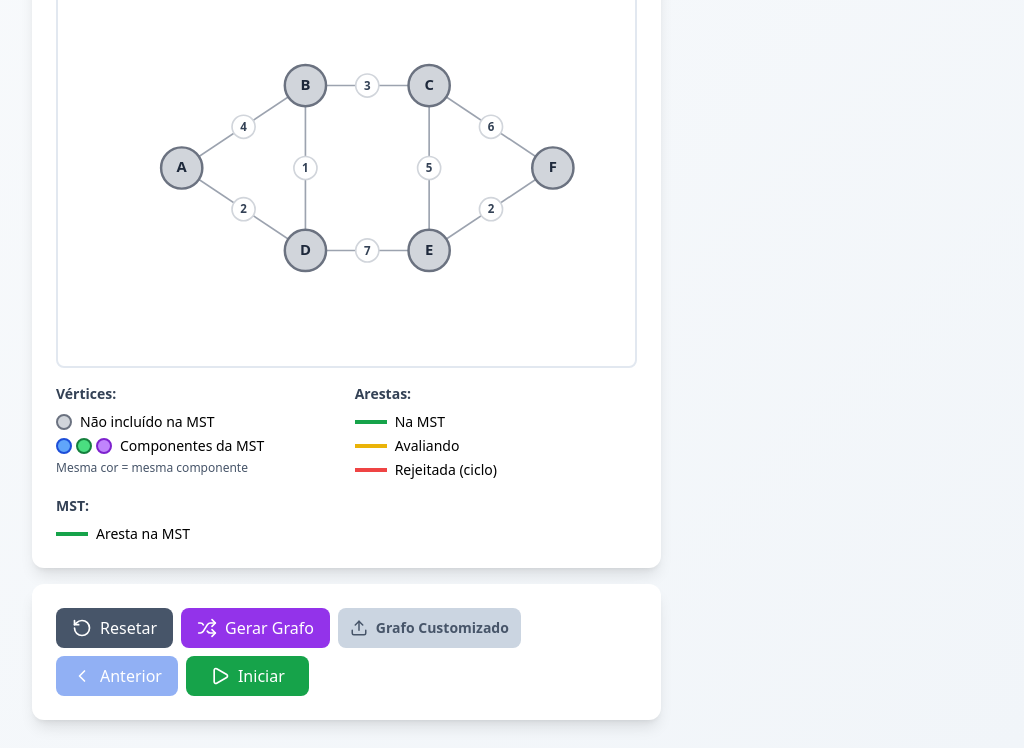
Test: KruskalSimulator Integration › should show sorted edges panel
(page scrolled)
Click the button with test id "start-button": (247, 676) [186,656,309,696]
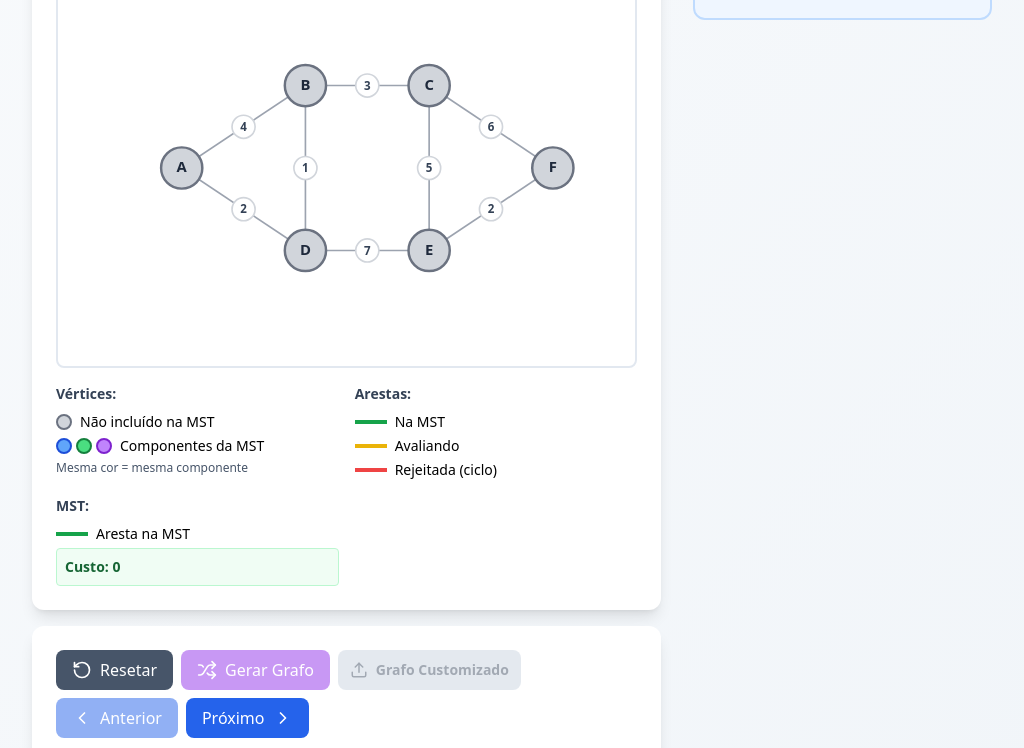
Click the button with test id "next-button": (247, 718) [186,698,308,738]
(page scrolled)
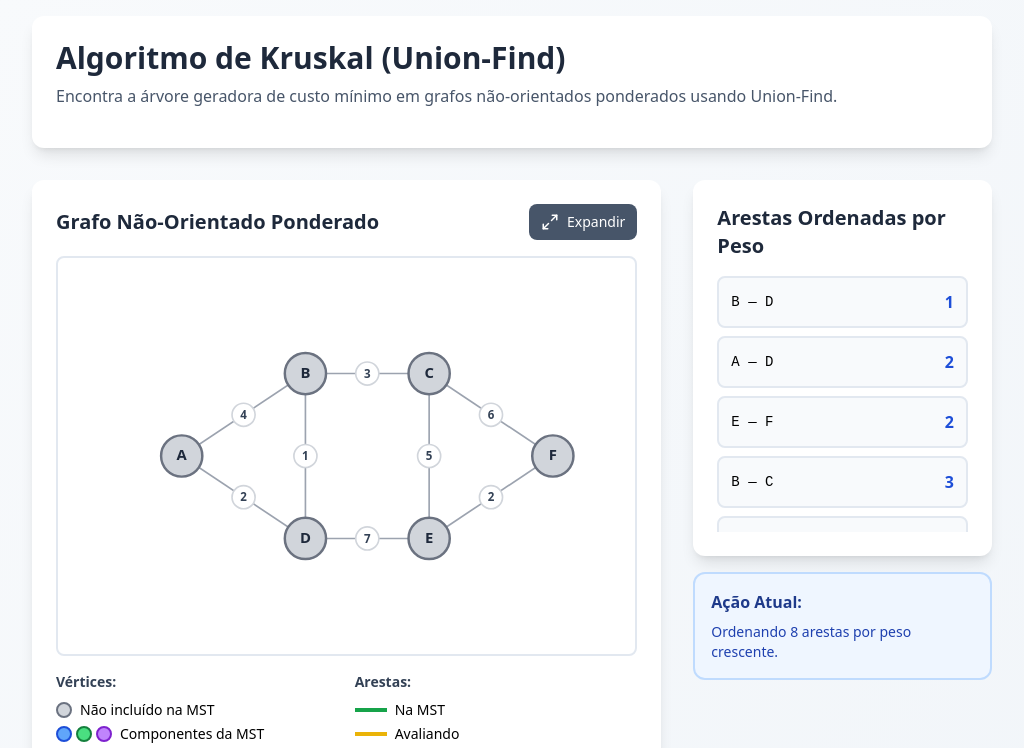
Now the element with test id "sorted-edges-panel" is shown, box [693,180,992,556]
